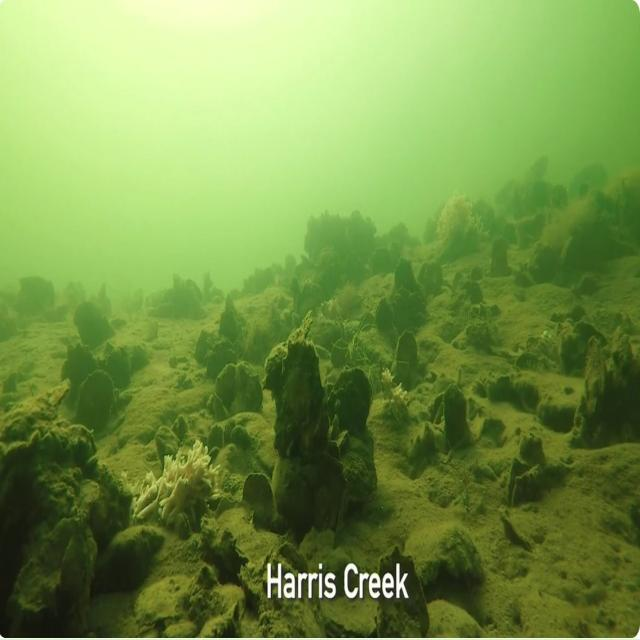Oyster- Indeterminate: (255, 325, 335, 460), (570, 333, 640, 448), (400, 516, 486, 600), (255, 305, 318, 394), (96, 512, 167, 587), (375, 548, 429, 637), (54, 520, 106, 601), (322, 363, 376, 437), (228, 545, 284, 612), (502, 456, 572, 509), (235, 469, 286, 540), (135, 575, 193, 637), (72, 368, 120, 434), (65, 296, 116, 352), (555, 224, 595, 289), (427, 599, 486, 639), (194, 335, 244, 382), (532, 394, 579, 437), (40, 512, 79, 562), (60, 343, 101, 389), (442, 383, 471, 448), (199, 515, 237, 560), (423, 464, 460, 510), (495, 456, 531, 502), (526, 242, 562, 286), (571, 317, 610, 354), (235, 362, 262, 412), (390, 288, 428, 323), (210, 584, 245, 621), (470, 416, 507, 449), (559, 331, 586, 374), (189, 329, 219, 367), (485, 237, 512, 278), (516, 432, 545, 469), (105, 348, 131, 389), (121, 339, 153, 372), (415, 261, 444, 297), (198, 614, 238, 640), (219, 295, 241, 342), (463, 319, 494, 352), (214, 363, 236, 408), (511, 379, 539, 411), (203, 392, 230, 425), (393, 258, 419, 292), (460, 276, 486, 307), (387, 385, 409, 421), (328, 337, 350, 370), (167, 415, 193, 442), (486, 375, 512, 402), (351, 309, 378, 333), (228, 425, 254, 449), (268, 567, 286, 601), (375, 298, 394, 330), (218, 416, 238, 446), (371, 247, 392, 275), (366, 363, 383, 396), (181, 430, 208, 448), (208, 423, 224, 449), (100, 342, 115, 357), (328, 441, 340, 458)
Oyster-Closed: (0, 371, 82, 454), (398, 417, 451, 466), (490, 506, 536, 558), (320, 597, 379, 637), (143, 423, 186, 466)
Oyster-Open: (392, 331, 418, 390), (275, 539, 313, 577), (171, 511, 192, 541), (333, 430, 354, 456), (206, 444, 221, 462)
